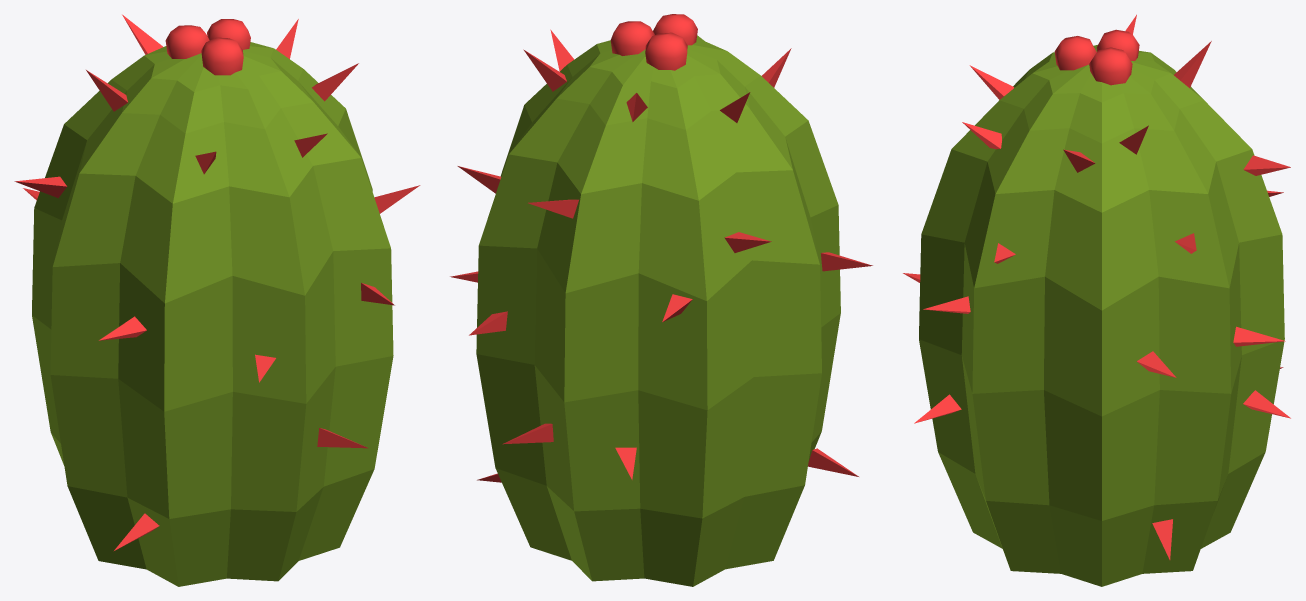
Rendered from Cactus_22_B.fbx.
3 renders of one model, left to right at view 1: azimuth 30°, elevation 25°; view 2: azimuth 150°, elevation 25°; view 3: azimuth 270°, elevation 25°, orthographic. The views are drawn at different scales.
Parts seen in each view (by area): view 1: Cactus_22_B; view 2: Cactus_22_B; view 3: Cactus_22_B.
Boxes of the visible parts, left/top/right/bottom form: Cactus_22_B: left=14, top=14, right=420, bottom=586; Cactus_22_B: left=450, top=14, right=872, bottom=586; Cactus_22_B: left=903, top=14, right=1290, bottom=586.
Size of the model in its own units: 107 by 154 by 111.
